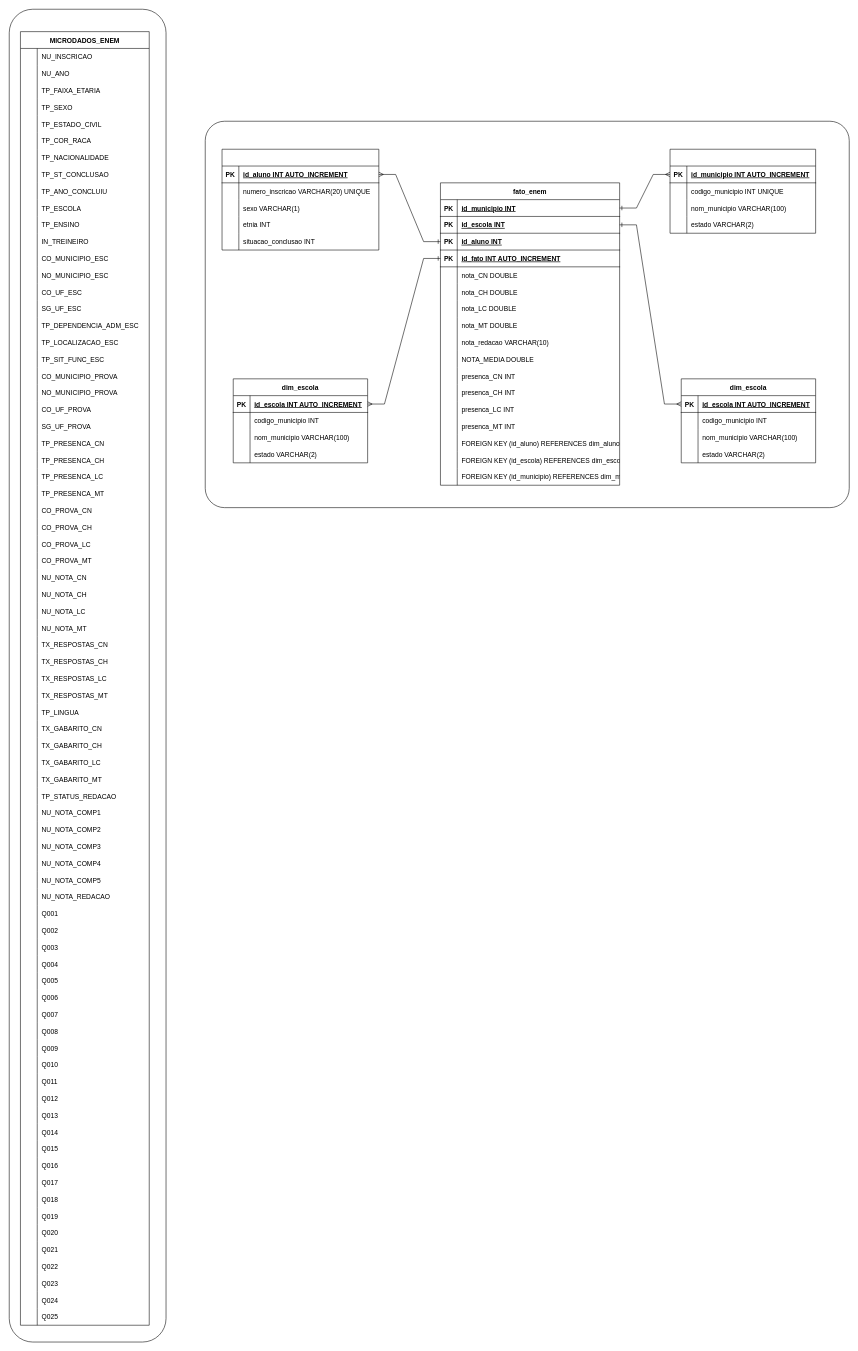
This 858x1351 diagram has some shape labels left out. The box of each missing label's shape, as (x1, y1, x2, y2) in pixels:
dim_aluno: (221, 149, 379, 250)
dim_municipio: (669, 149, 816, 233)
